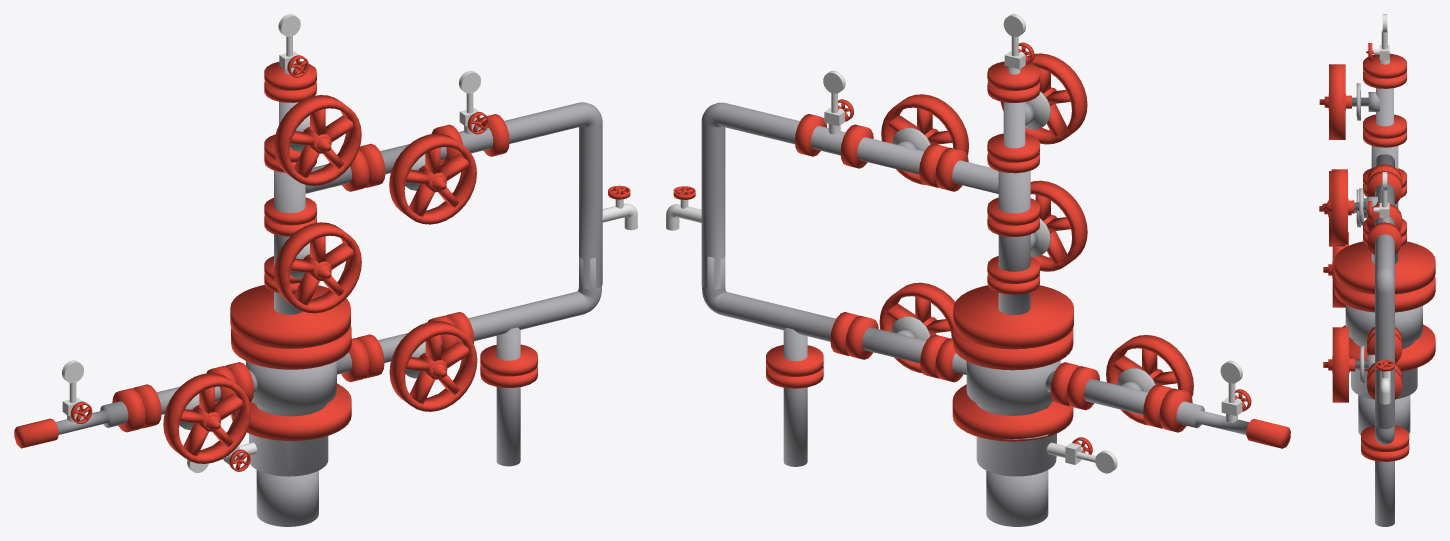
The picture shows the model from 3 angles, left to right: view 1: azimuth 30°, elevation 25°; view 2: azimuth 150°, elevation 25°; view 3: azimuth 270°, elevation 25°; orthographic projection. The views are drawn at different scales.
Visible parts, largest first — view 1: well_base, flanges_faceplate, casing_gate_valve_two, lubricator_valve, casing_gate_valve_one, central_valve, manifold_gate_valve, plug; view 2: well_base, flanges_faceplate, lubricator_valve, central_valve, casing_gate_valve_one, manifold_gate_valve, casing_gate_valve_two, plug; view 3: flanges_faceplate, well_base, manifold_gate_valve, casing_gate_valve_two, lubricator_valve, casing_gate_valve_one, central_valve, sampler_valve.
Part boxes in pixels (box(x1,y1,x2,y2)): well_base: box(55, 35, 637, 526); flanges_faceplate: box(112, 61, 537, 440); casing_gate_valve_two: box(389, 321, 477, 411); lubricator_valve: box(274, 95, 361, 185); casing_gate_valve_one: box(163, 373, 250, 463); central_valve: box(274, 222, 361, 313); manifold_gate_valve: box(389, 133, 476, 224); plug: box(14, 418, 58, 448); well_base: box(666, 35, 1248, 526); flanges_faceplate: box(766, 61, 1192, 441); lubricator_valve: box(1000, 53, 1087, 144); central_valve: box(1030, 180, 1087, 271); casing_gate_valve_one: box(1106, 335, 1193, 425); manifold_gate_valve: box(881, 94, 968, 184); casing_gate_valve_two: box(879, 282, 955, 373); plug: box(1246, 419, 1290, 448); flanges_faceplate: box(1334, 53, 1435, 461); well_base: box(1345, 30, 1422, 526); manifold_gate_valve: box(1322, 169, 1354, 244); casing_gate_valve_two: box(1323, 327, 1355, 402); lubricator_valve: box(1319, 64, 1351, 139); casing_gate_valve_one: box(1323, 232, 1348, 307); central_valve: box(1319, 171, 1351, 246); sampler_valve: box(1376, 360, 1394, 371).
Bounding box in the file's own units: 9.49 × 7.34 × 1.84.
